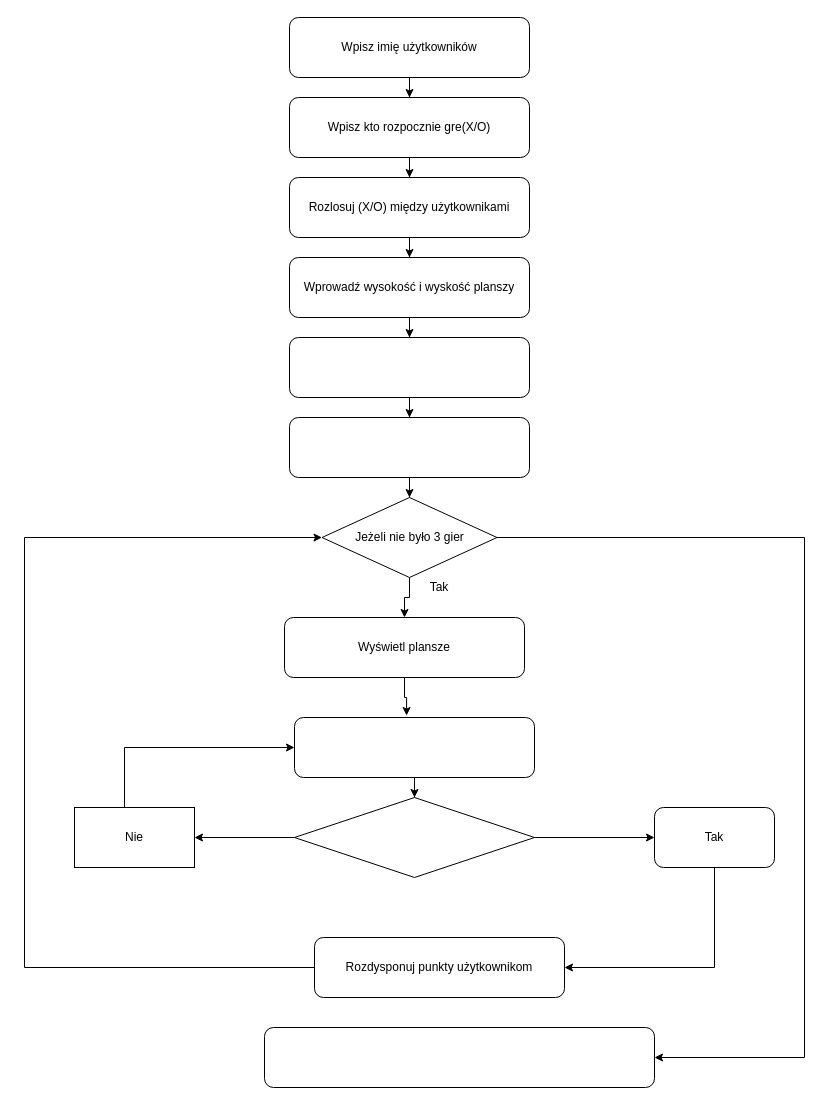
Some shapes in this 830 by 1105 pixel diagram are drawn without their labels. The centre of each missing label's shape, as x and y in pixels:
Poproś o ruch użytkownika: the point at 414,747
Rozpocznij rozgrywkę: the point at 409,447
Sprawdź czy ktoś wygrał: the point at 414,837
Wprowadź ilość wygranych: the point at 409,367
Wyświetl wyniki: the point at 459,1057
